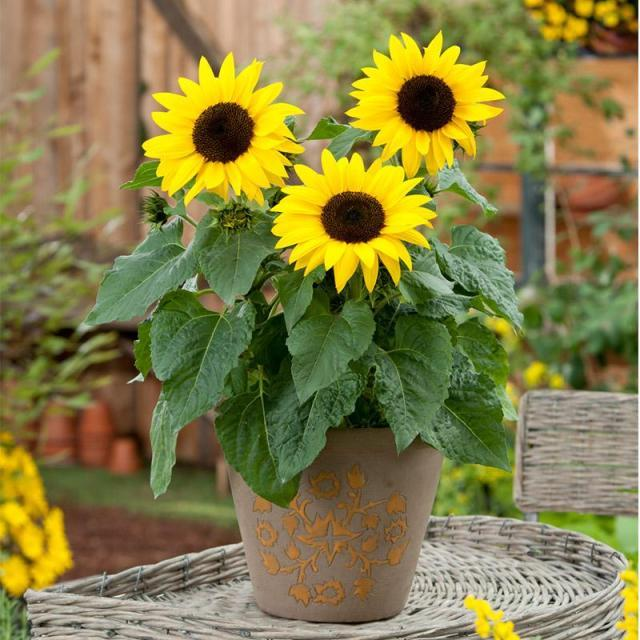sunflower: (140, 51, 306, 208), (268, 148, 438, 294), (344, 29, 506, 177)
